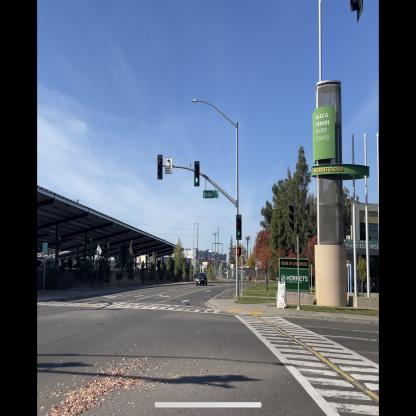green: (194, 160, 200, 188), (236, 213, 242, 240)
left-red: (157, 153, 163, 182)
